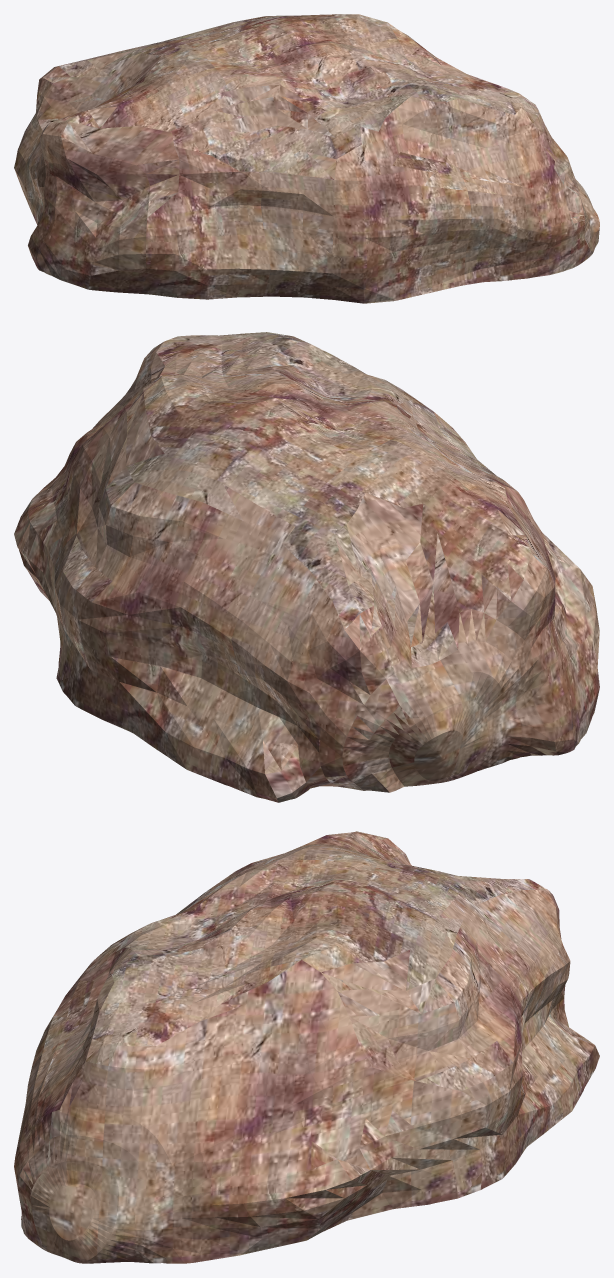
Rendered from Asteroid2.FBX.
3 views of the same model, one above another, from view 1: azimuth 30°, elevation 25°; view 2: azimuth 150°, elevation 25°; view 3: azimuth 270°, elevation 25° (orthographic). The views are drawn at different scales.
Parts seen in each view (by area): view 1: Group_012; view 2: Group_012; view 3: Group_012.
Part boxes in pixels (<box>): Group_012: <box>14,14,599,303</box>; Group_012: <box>14,332,599,802</box>; Group_012: <box>14,831,599,1263</box>.
Bounding box in the file's own units: 26.85 × 10.79 × 23.74.
1 material, 1 textured.
